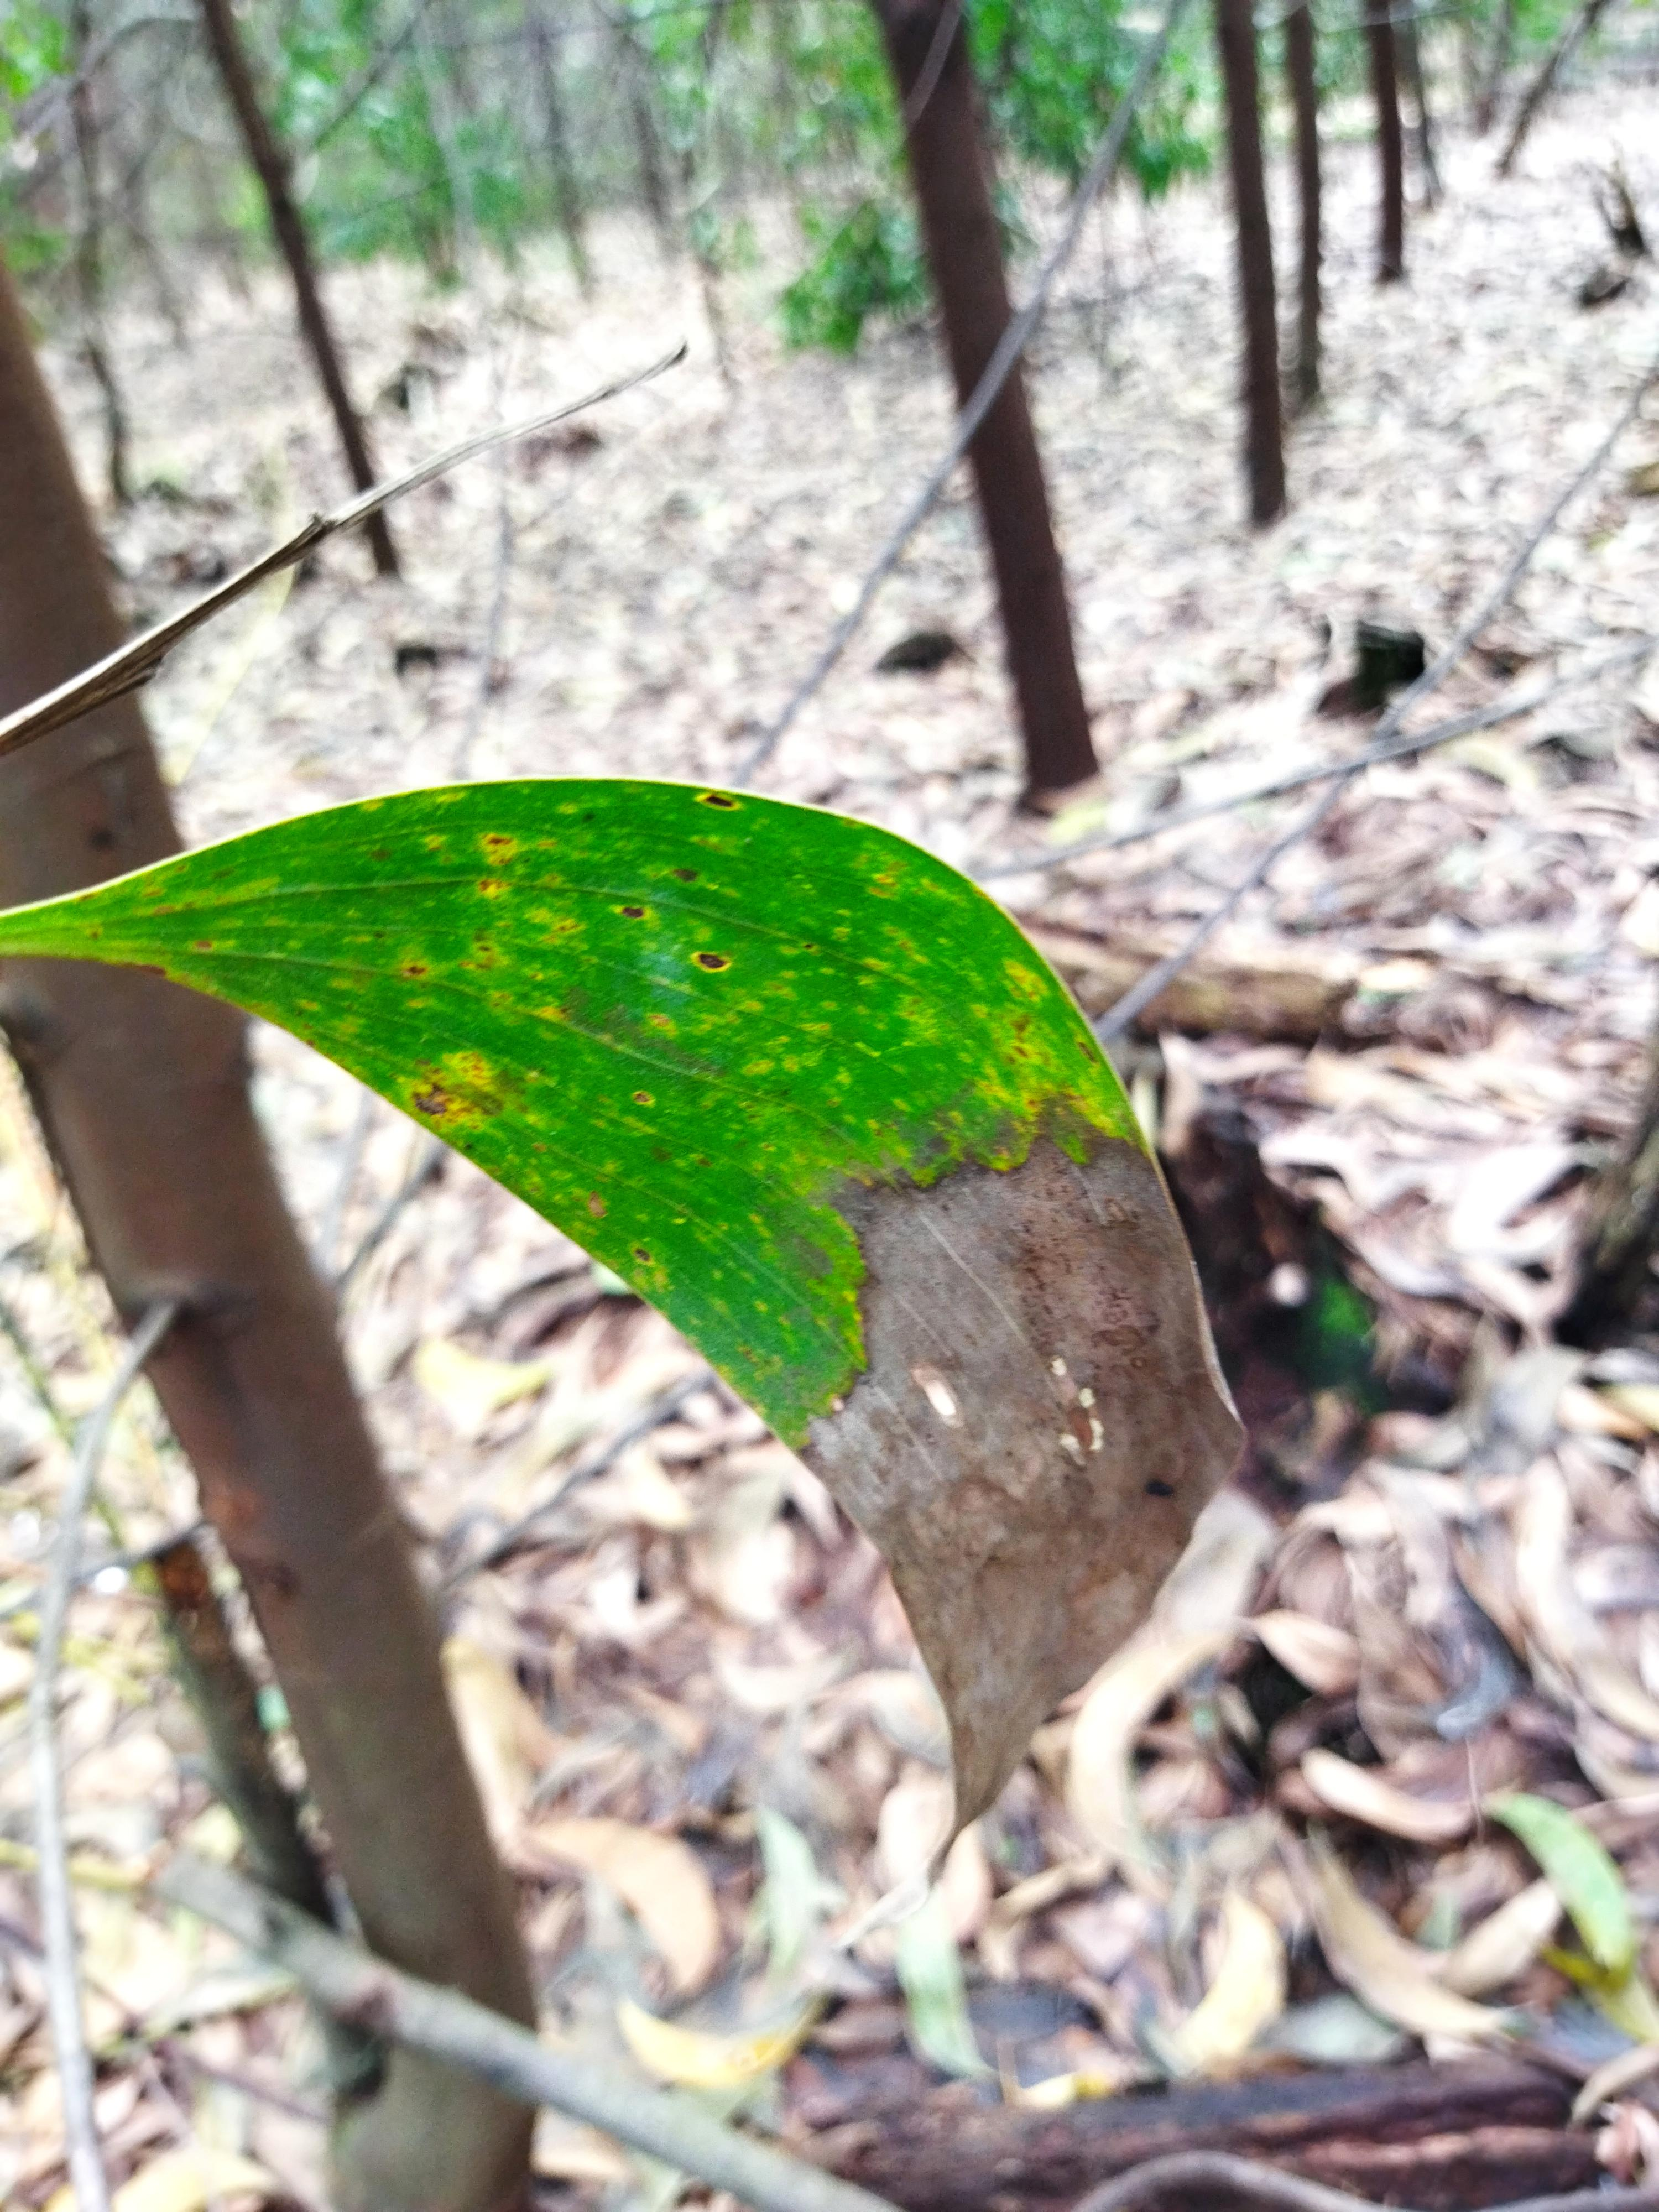Cylindrocladium: (775, 1123, 1297, 1885)
Xanthomonas: (216, 765, 856, 1353)
